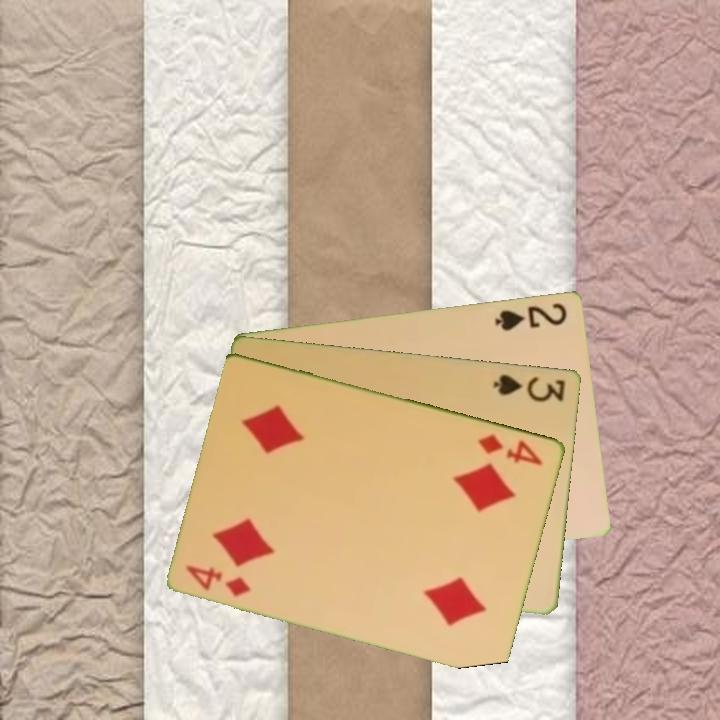2s: (491, 299, 570, 334)
3s: (490, 370, 568, 405)
4d: (475, 430, 546, 468), (183, 561, 254, 599)
